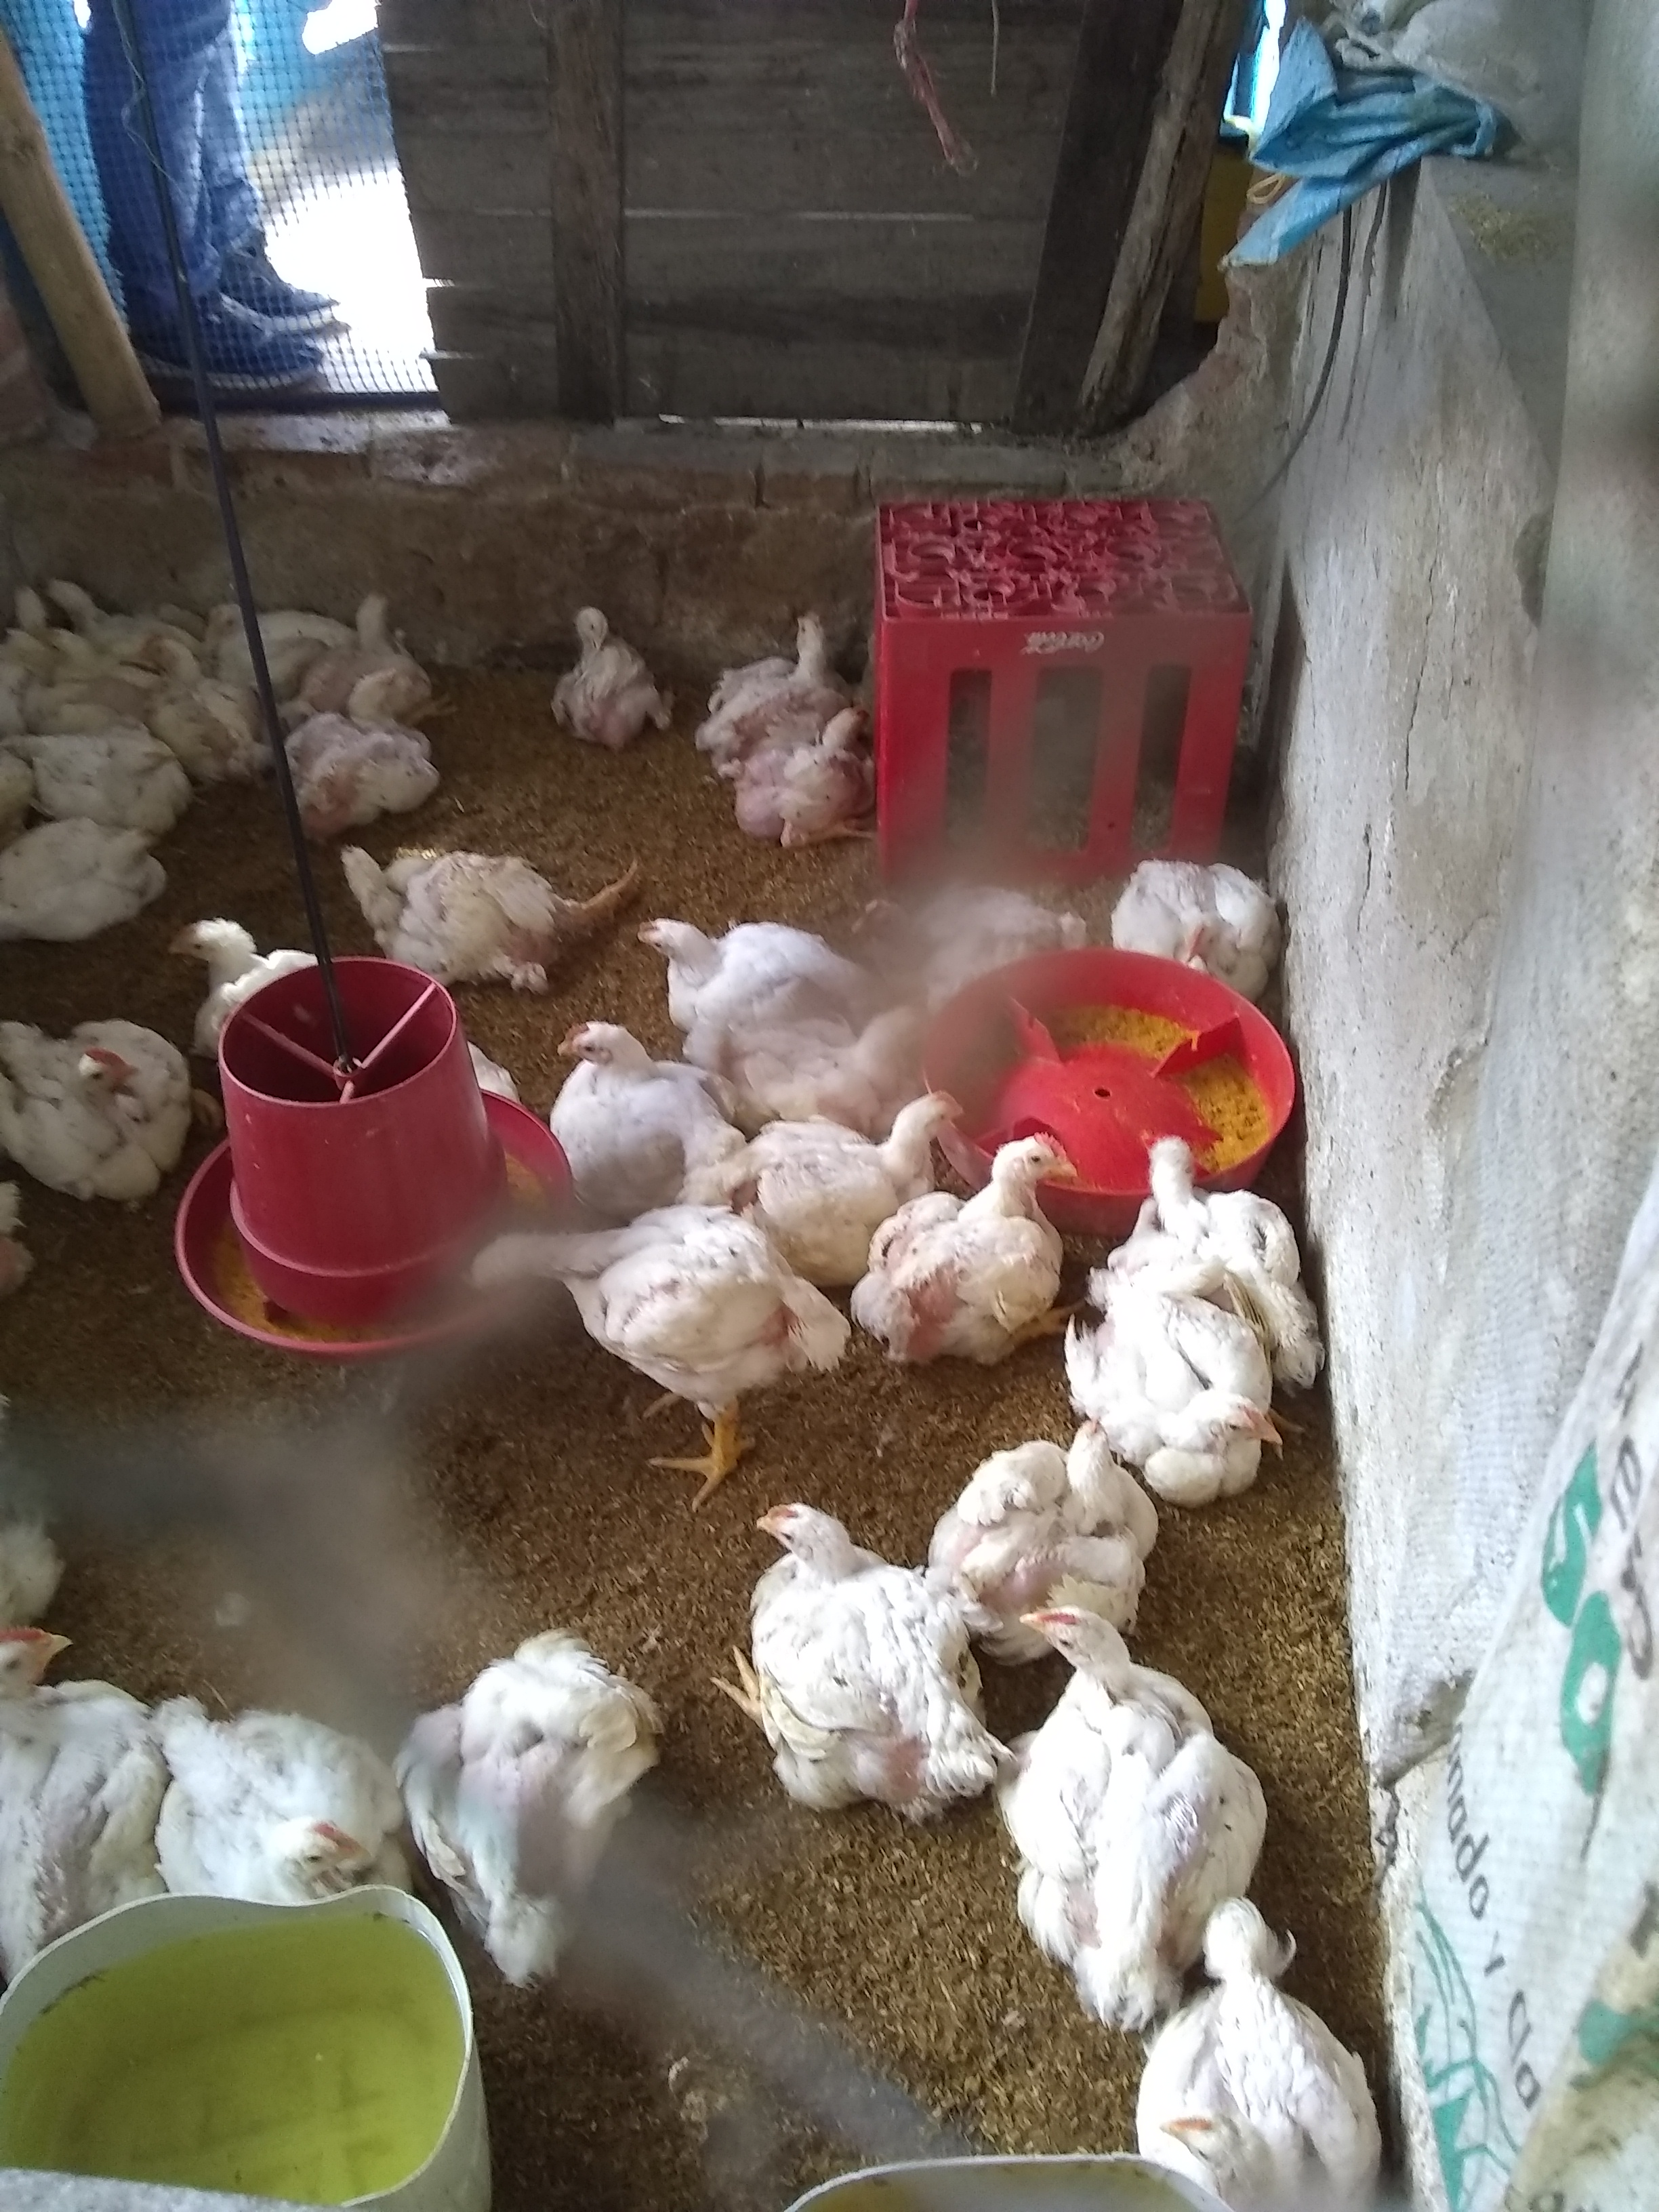Pollos: (993, 1581, 1263, 2001), (403, 1604, 676, 1989), (458, 1205, 829, 1479), (1110, 1892, 1412, 2198), (742, 1487, 983, 1780), (0, 1583, 155, 1996), (159, 1669, 396, 1932), (866, 1106, 1066, 1369), (1107, 1120, 1312, 1372), (1047, 1268, 1263, 1494), (939, 1426, 1152, 1642), (326, 843, 638, 989), (641, 900, 859, 1097), (0, 989, 199, 1204), (732, 1076, 946, 1259), (544, 1012, 732, 1217), (859, 850, 1084, 1019), (0, 798, 178, 970), (540, 554, 683, 758), (706, 585, 863, 759), (1107, 838, 1281, 989), (756, 709, 927, 855), (167, 904, 328, 1057), (298, 674, 444, 822), (0, 716, 178, 834), (209, 596, 326, 667), (342, 592, 401, 688), (134, 639, 218, 705), (35, 627, 108, 695), (5, 583, 68, 660), (40, 570, 125, 624)
